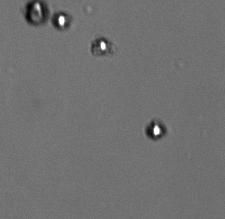Dead Cell: (26, 1, 46, 25)
Living Cell: (146, 119, 167, 140), (53, 9, 71, 30), (93, 35, 112, 54)
